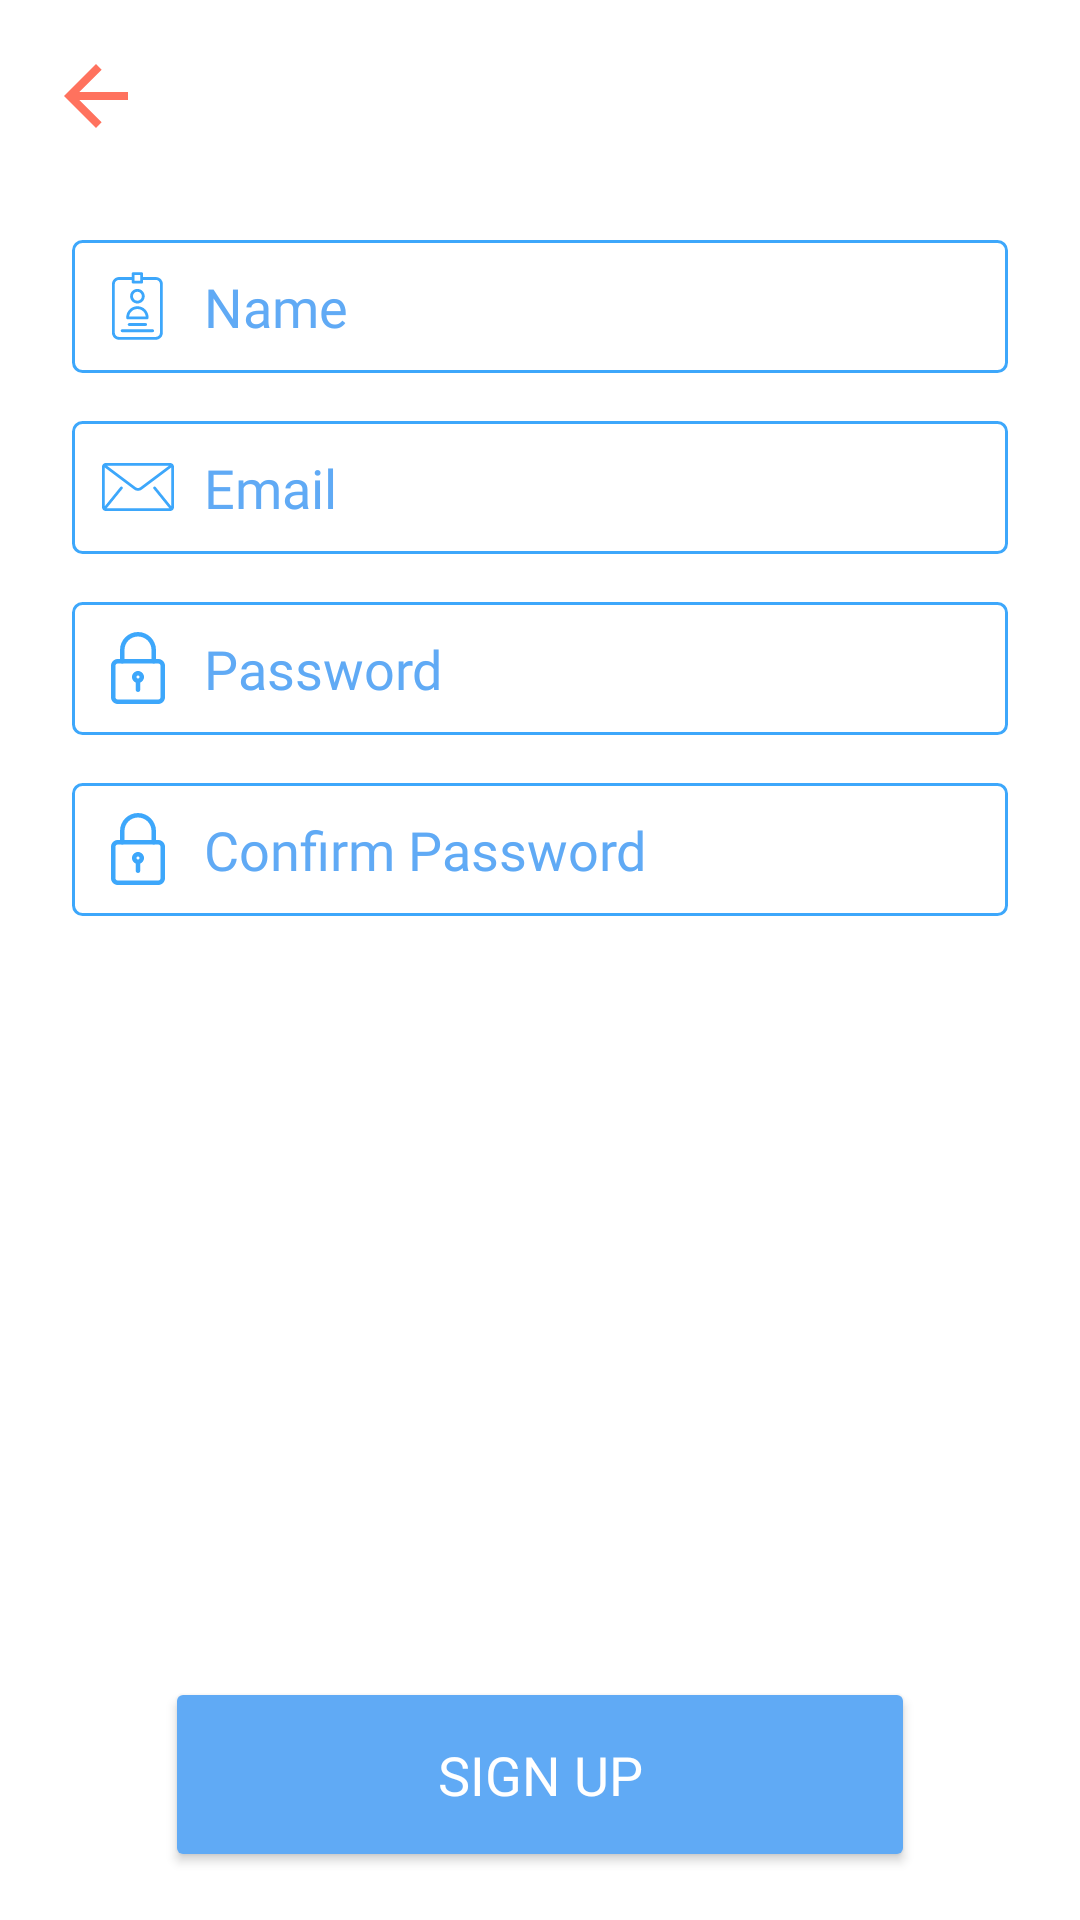

Named icons in this screenshot (1080px x 1920px) and their centers, (x=x, y=y):
arrow back: (x=96, y=96)
